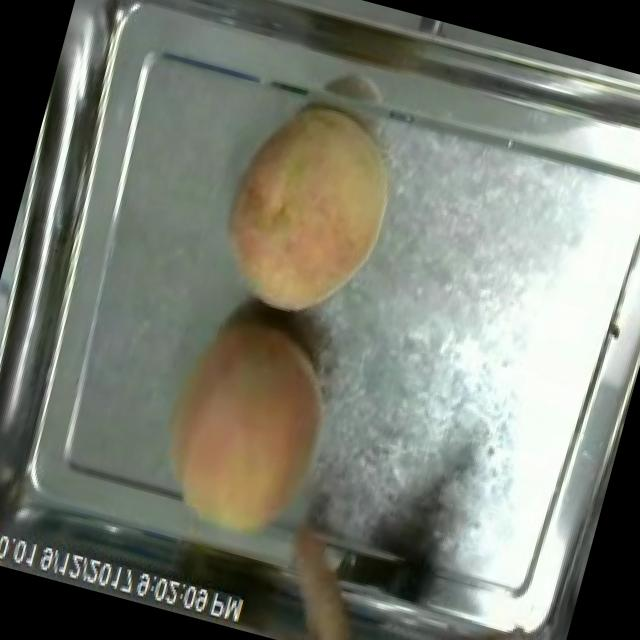Fruit: (135, 296, 358, 560), (205, 86, 417, 337)
